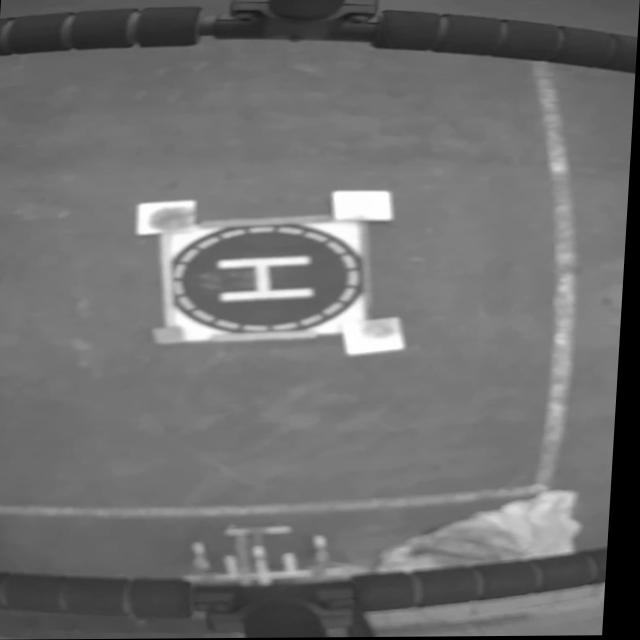Helipad: (218, 256, 319, 303)
